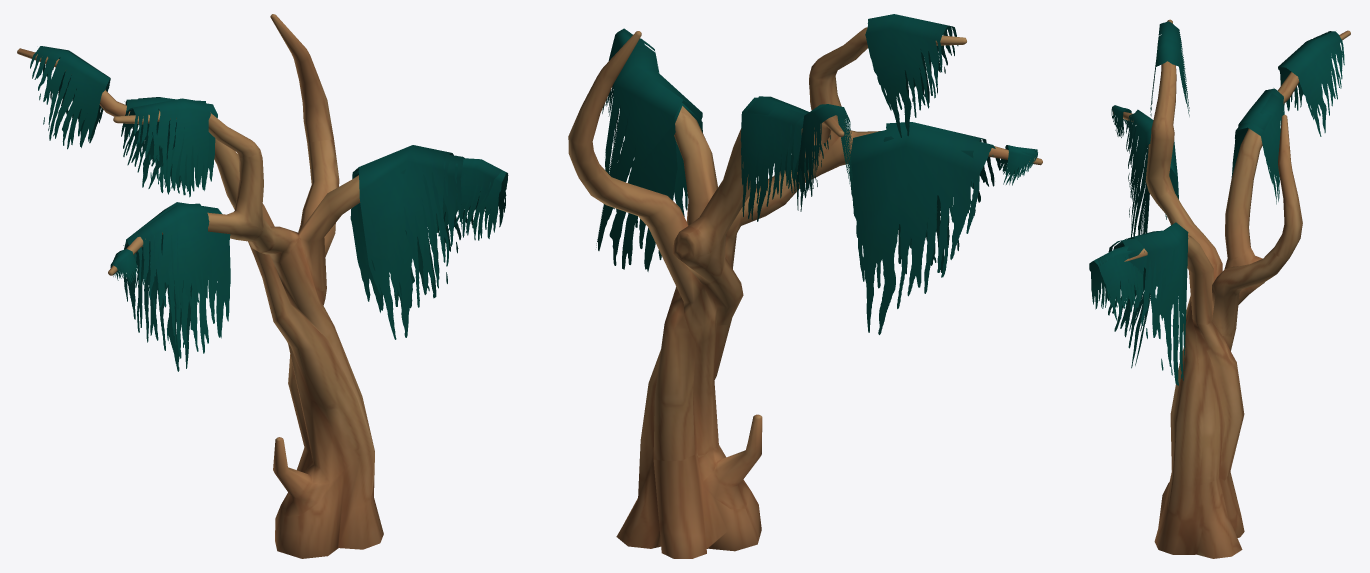
File: MDL_GMB_RiveTree.fbx
3 views of the same model, side by side, from view 1: azimuth 30°, elevation 25°; view 2: azimuth 150°, elevation 25°; view 3: azimuth 270°, elevation 25° (orthographic). The views are drawn at different scales.
Visible parts, largest first — view 1: MDL_GMB_Tree; view 2: MDL_GMB_Tree; view 3: MDL_GMB_Tree.
Part boxes in pixels (x1,y1,x2,y2): MDL_GMB_Tree: [17, 14, 508, 558]; MDL_GMB_Tree: [568, 14, 1042, 558]; MDL_GMB_Tree: [1089, 19, 1350, 558].
Bounding box in the file's own units: 1.65 × 1.87 × 1.13.
